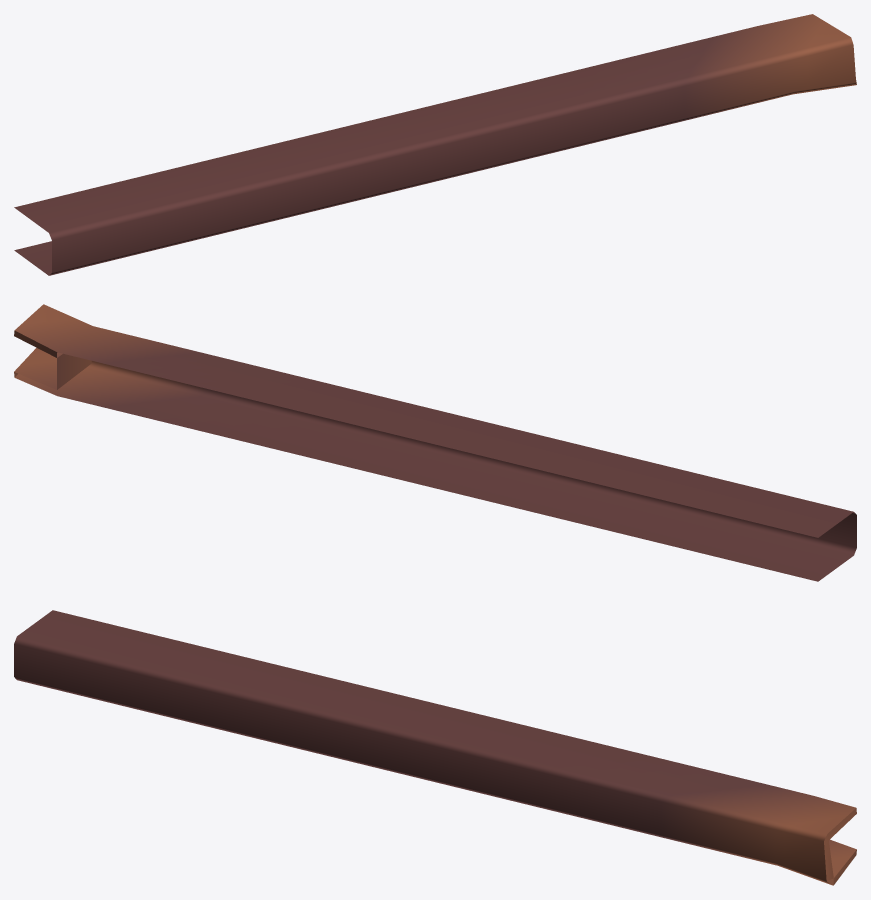
File: DBK_Trim_Extra_End.fbx
3 renders of one model, top to bottom at view 1: azimuth 30°, elevation 25°; view 2: azimuth 150°, elevation 25°; view 3: azimuth 330°, elevation 25°, orthographic. The views are drawn at different scales.
Visible parts, largest first — view 1: DBK_Trim_Extra_End; view 2: DBK_Trim_Extra_End; view 3: DBK_Trim_Extra_End.
Boxes of the visible parts, box(x1,y1,x2,y2) form: DBK_Trim_Extra_End: box(14, 14, 856, 275); DBK_Trim_Extra_End: box(14, 304, 856, 581); DBK_Trim_Extra_End: box(14, 610, 856, 885).
Size of the model in its own units: 143 by 8.38 by 13.19.
